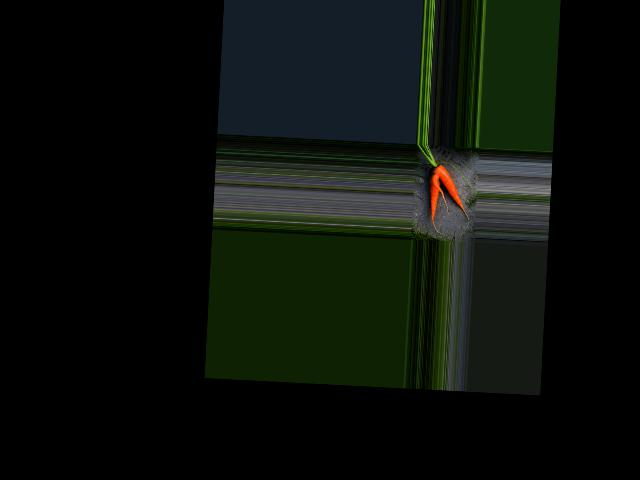carrot: (421, 170, 447, 232)
